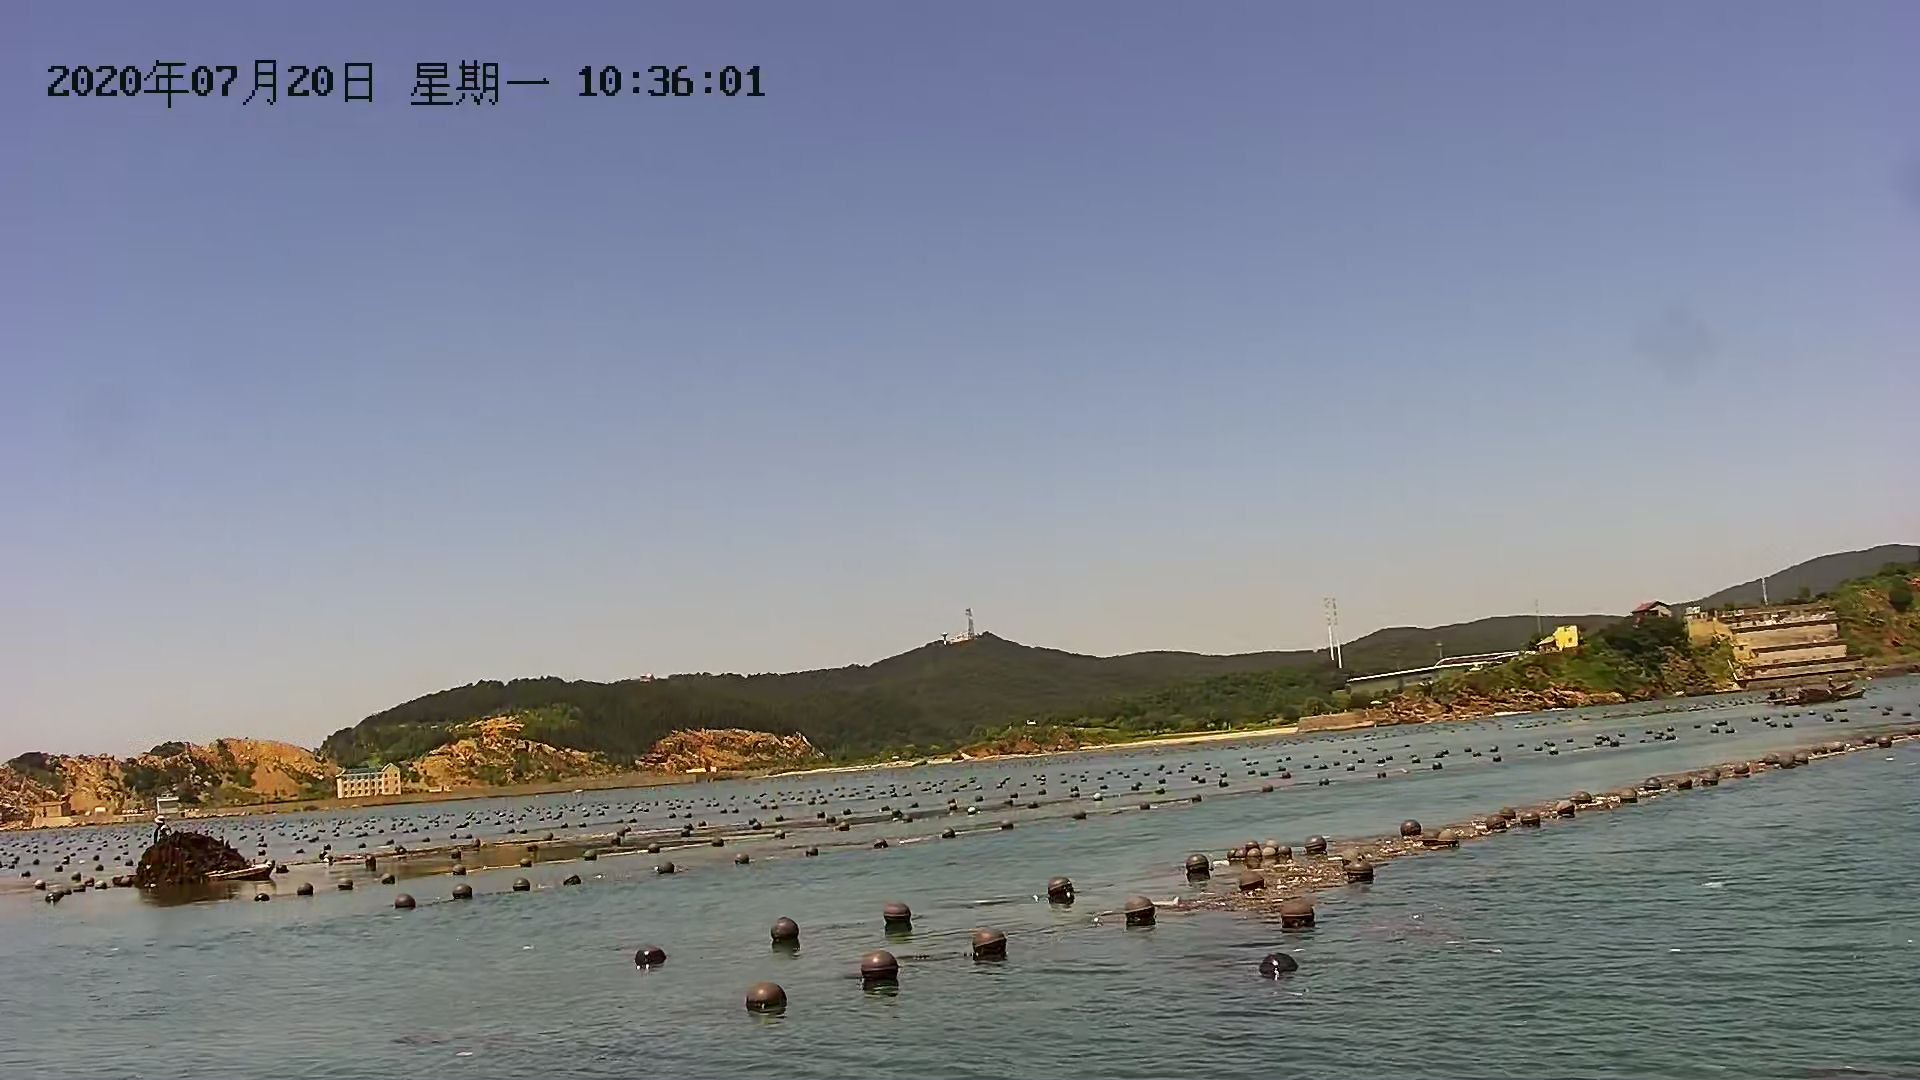ball: (738, 973, 793, 1023), (967, 928, 1011, 973), (857, 945, 902, 988), (628, 935, 669, 975), (1121, 894, 1162, 930), (1282, 901, 1319, 938), (769, 911, 804, 948), (1043, 872, 1077, 909), (878, 902, 916, 931), (506, 876, 538, 898), (393, 887, 415, 916), (654, 860, 680, 882), (731, 848, 754, 870), (452, 882, 473, 905)
rubbish: (128, 825, 281, 895), (1778, 682, 1863, 711)
